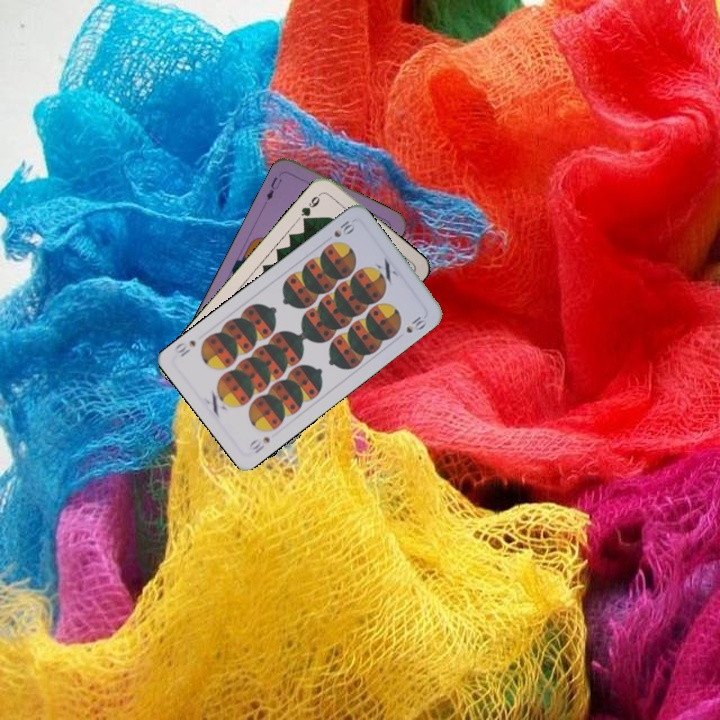EU: (262, 173, 284, 203)
G9: (296, 189, 325, 226)
S10: (330, 216, 358, 240), (245, 432, 273, 456)
